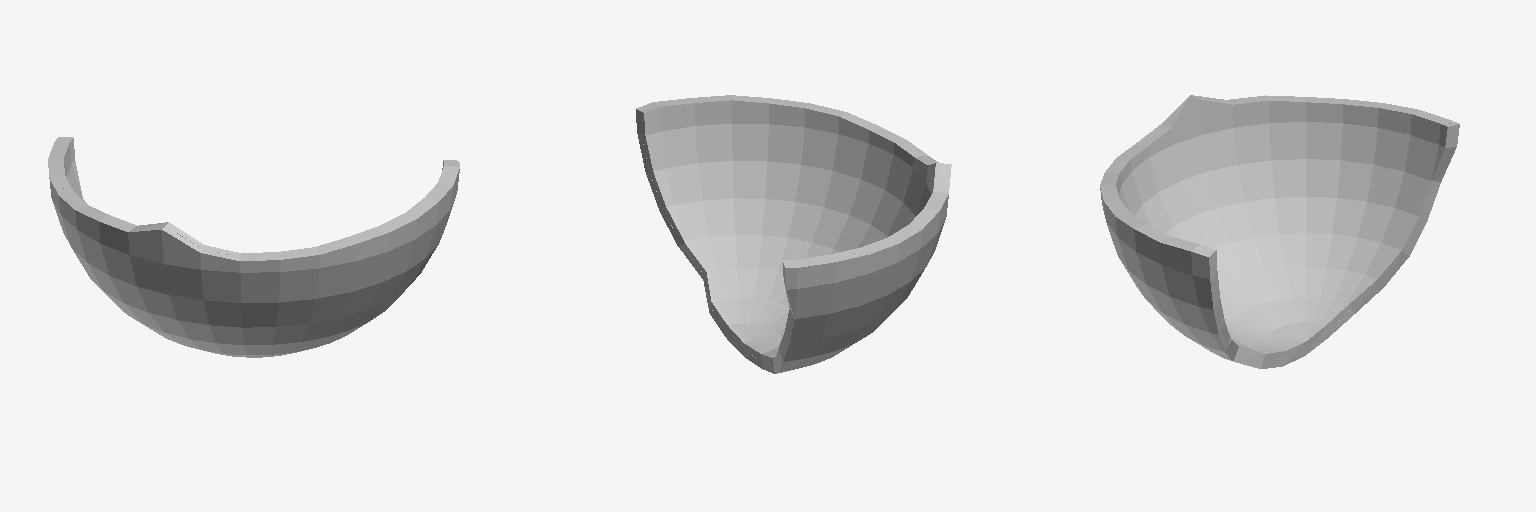
File: ball_piece1.obj
3 renders of one model, left to right at view 1: azimuth 30°, elevation 25°; view 2: azimuth 150°, elevation 25°; view 3: azimuth 270°, elevation 25°, orthographic.
Visible parts, largest first — view 1: piece4_Sphere.005; view 2: piece4_Sphere.005; view 3: piece4_Sphere.005.
Boxes of the visible parts, box(x1,y1,x2,y2) form: piece4_Sphere.005: box(48, 137, 459, 357); piece4_Sphere.005: box(636, 95, 951, 373); piece4_Sphere.005: box(1100, 95, 1459, 368).
Size of the model in its own units: 0.4845 by 0.261 by 0.4502.